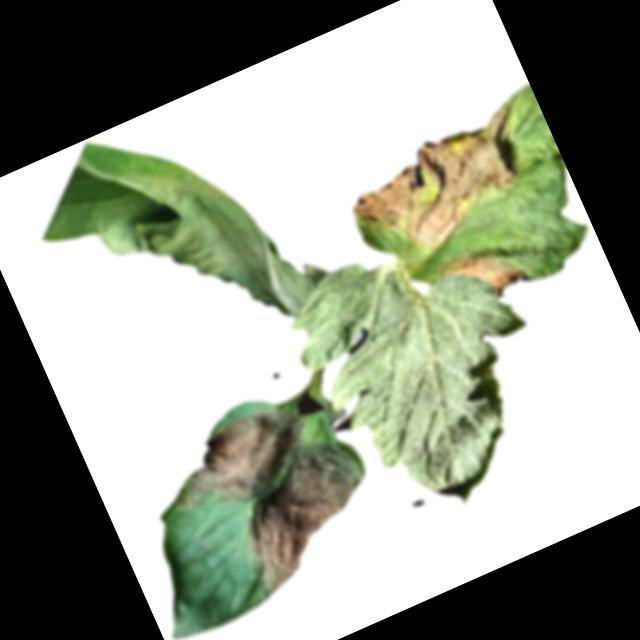Late_blight: (14, 81, 322, 396), (153, 383, 392, 622), (338, 103, 555, 276), (440, 238, 530, 313)
healthy: (273, 208, 584, 543)
